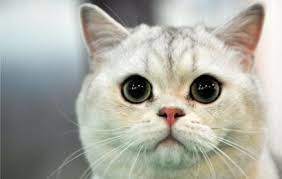kedi: (54, 1, 265, 179)
